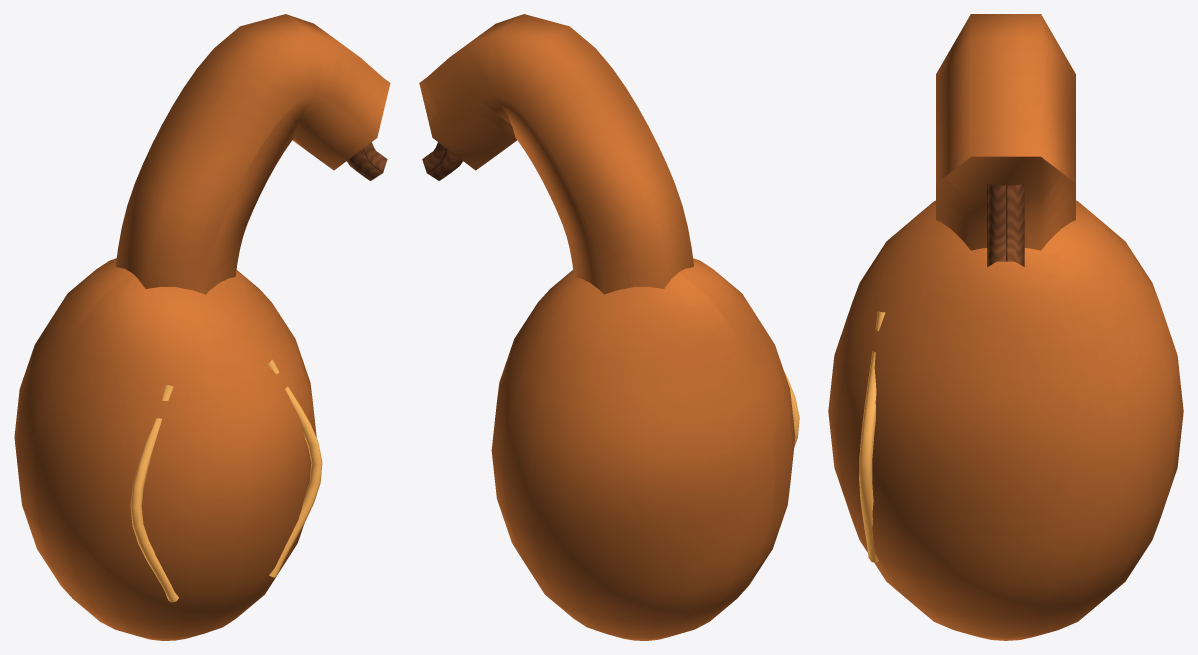
File: hollowwick-halloween-crookneck-gourd-e2718d60__21595.glb
The picture shows the model from 3 angles, left to right: view 1: azimuth 30°, elevation 25°; view 2: azimuth 150°, elevation 25°; view 3: azimuth 270°, elevation 25°; orthographic projection. The views are drawn at different scales.
Visible parts, largest first — view 1: crookneck-gourd; view 2: crookneck-gourd; view 3: crookneck-gourd.
Part boxes in pixels (x1,y1,x2,y2): crookneck-gourd: (14, 14, 390, 640); crookneck-gourd: (419, 14, 799, 640); crookneck-gourd: (828, 14, 1183, 640).
Size of the model in its own units: 0.5022 by 0.7867 by 0.38.
Materials: 3 (2 with a texture image).
